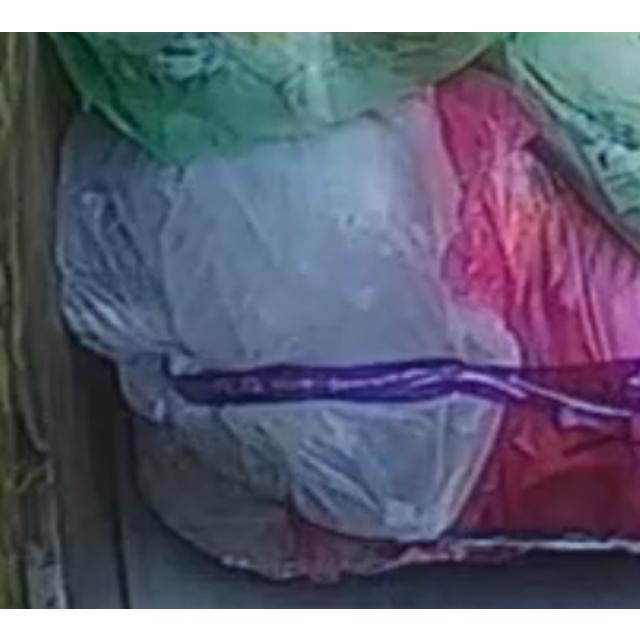other_trashbag: (61, 68, 640, 578)
